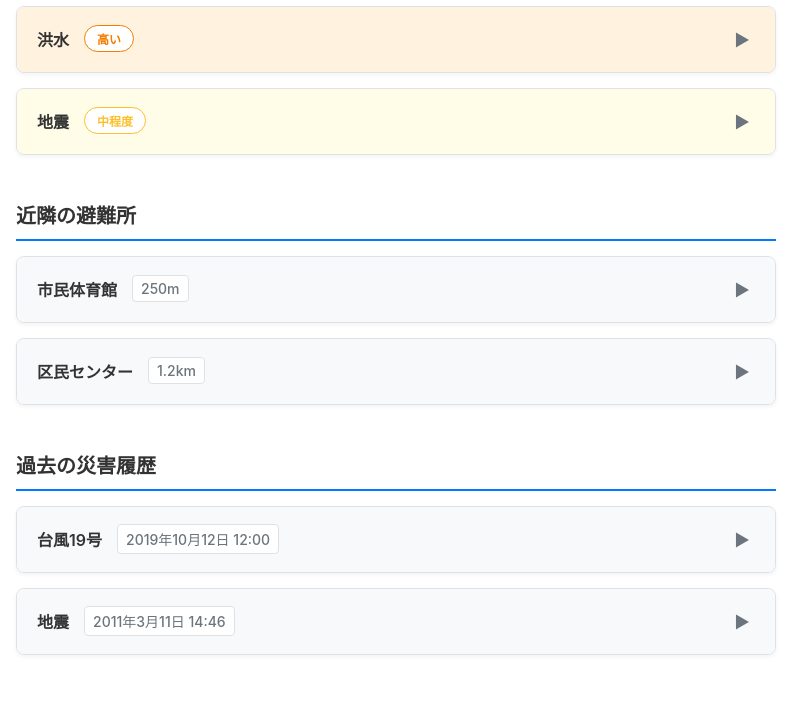
DisasterInfoDisplayComponent › 災害履歴 › 災害履歴の詳細情報が展開できる
This screenshot has width=793, height=720.
(page scrolled)
Click the text "台風19号".
click(396, 539)  # box [17, 507, 775, 572]
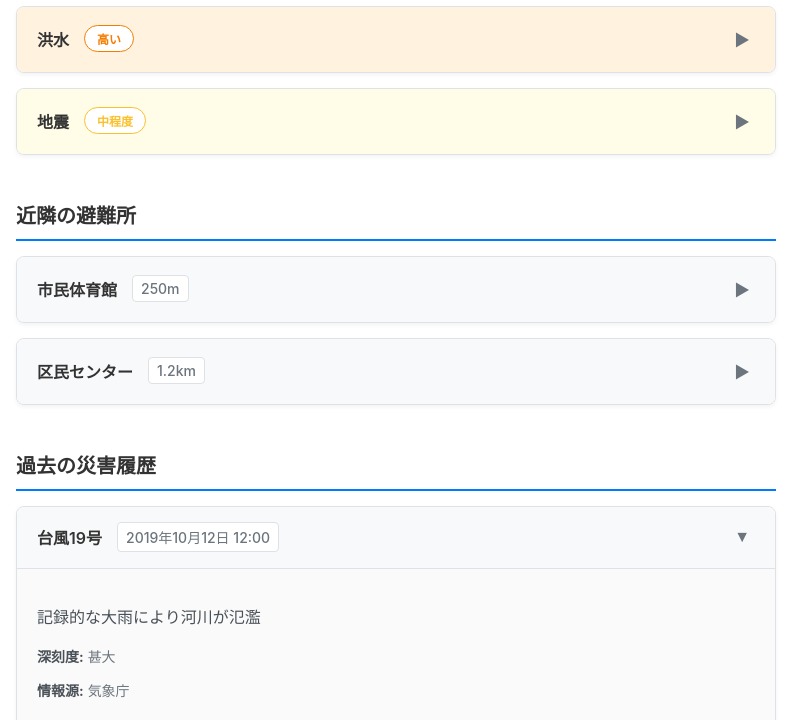
expect the text "記録的な大雨により河川が氾濫" is shown: met, box [37, 607, 261, 627]
expect the text "甚大" is shown: met, box [88, 648, 116, 664]
